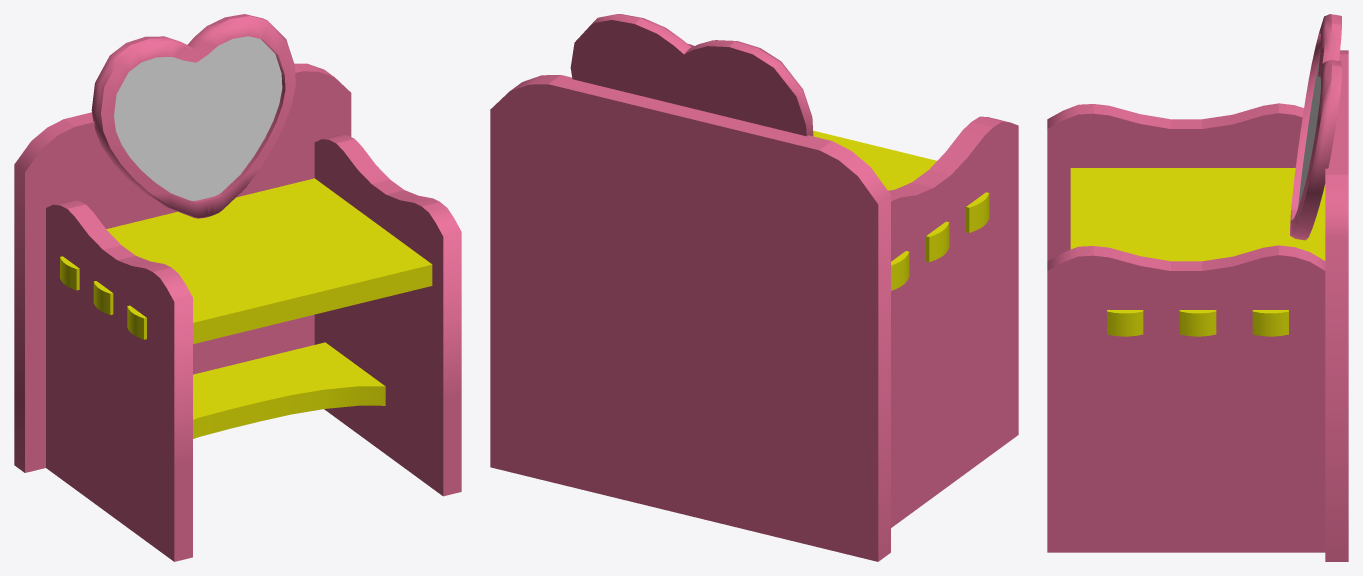
The model's file is desk.fbx.
The picture shows the model from 3 angles, left to right: view 1: azimuth 30°, elevation 25°; view 2: azimuth 150°, elevation 25°; view 3: azimuth 270°, elevation 25°; orthographic projection. The views are drawn at different scales.
Parts seen in each view (by area): view 1: Cube.001; view 2: Cube.001; view 3: Cube.001.
Boxes of the visible parts, x1,y1,x2,y2 form: Cube.001: (14, 14, 461, 561); Cube.001: (490, 14, 1018, 561); Cube.001: (1047, 14, 1348, 561).
Size of the model in its own units: 352 by 413 by 260.
